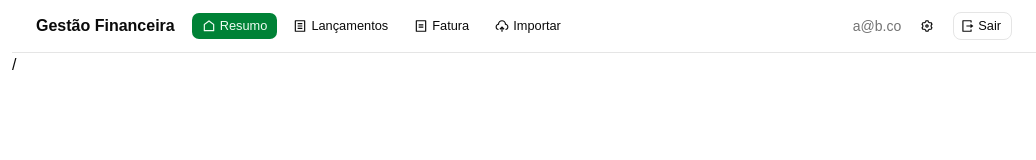
Test: Header › Sair encerra a sessão e vai para o login
Click the button "Sair" at [983, 26], box [953,12,1012,40]
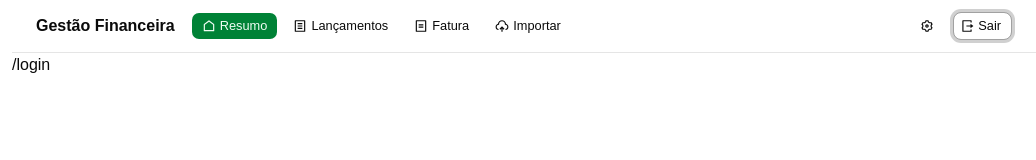
Expected: the text with test id "rota" reads "/login", [12,56,50,73]
